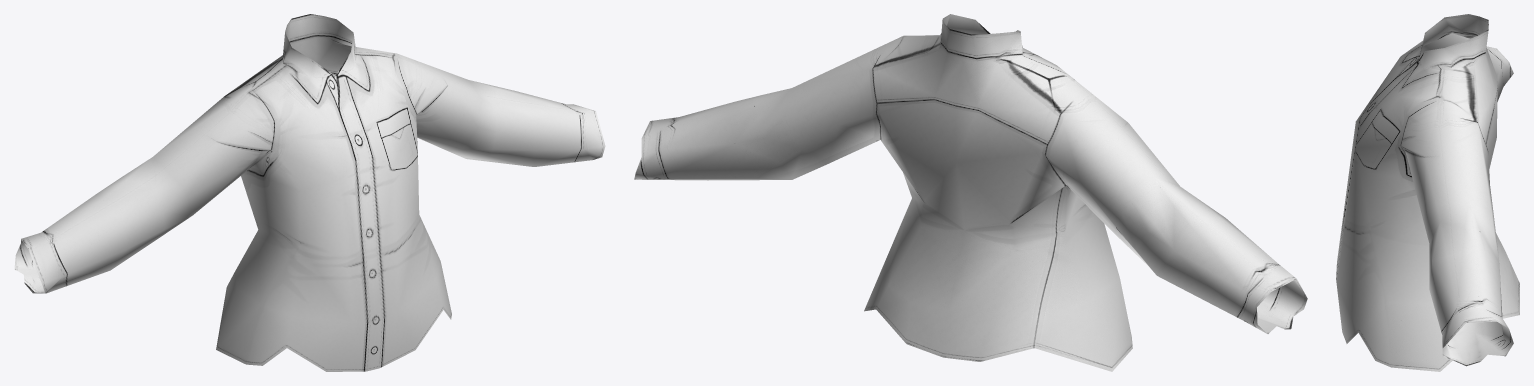
The model's file is CollarShirt.glb.
3 renders of one model, left to right at view 1: azimuth 30°, elevation 25°; view 2: azimuth 150°, elevation 25°; view 3: azimuth 270°, elevation 25°, orthographic. The views are drawn at different scales.
Parts seen in each view (by area): view 1: CollarShirt; view 2: CollarShirt; view 3: CollarShirt.
Part boxes in pixels (left/top/right/bottom): CollarShirt: left=14, top=14, right=605, bottom=371; CollarShirt: left=634, top=14, right=1307, bottom=371; CollarShirt: left=1336, top=14, right=1519, bottom=371.
Size of the model in its own units: 16.46 by 8.34 by 4.56.
1 material, 1 textured.
